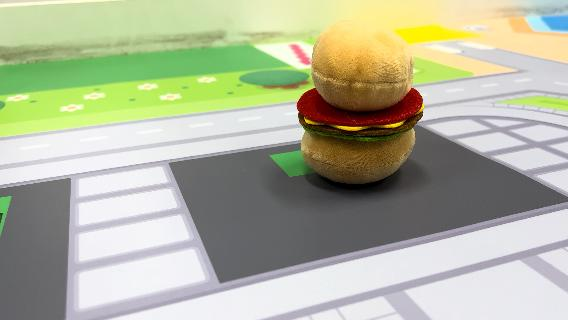burger: (295, 18, 427, 186)
